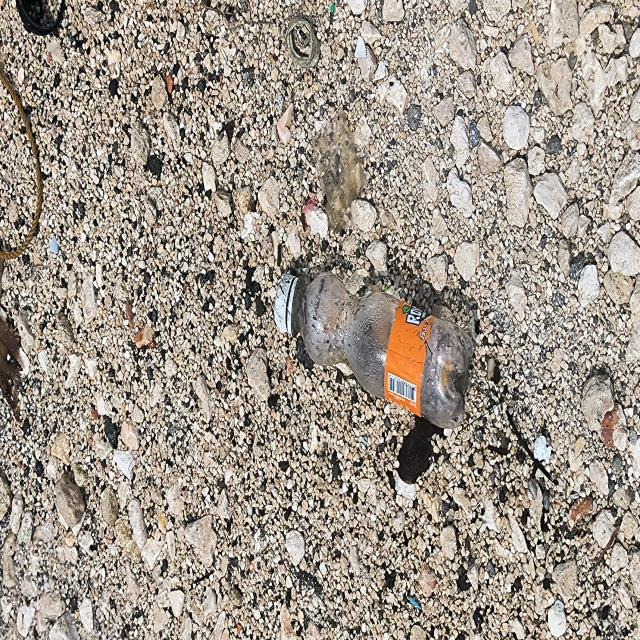litter: (274, 268, 476, 428), (284, 15, 318, 67), (16, 0, 64, 36)
